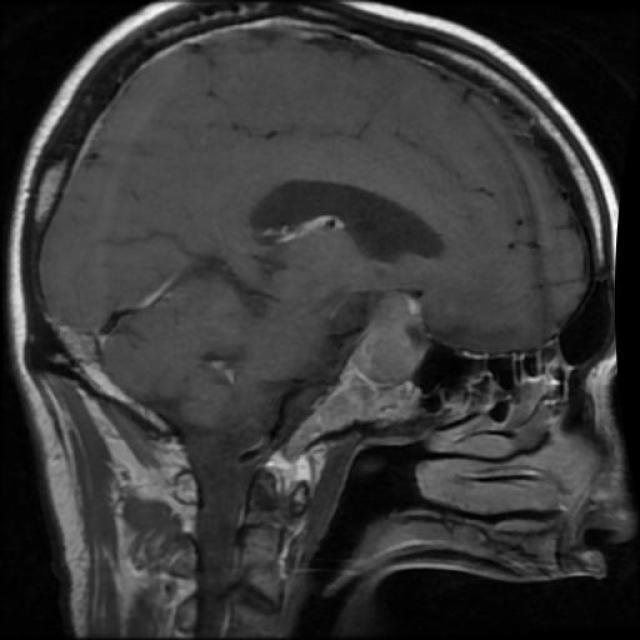pituitary: (352, 278, 436, 388)
